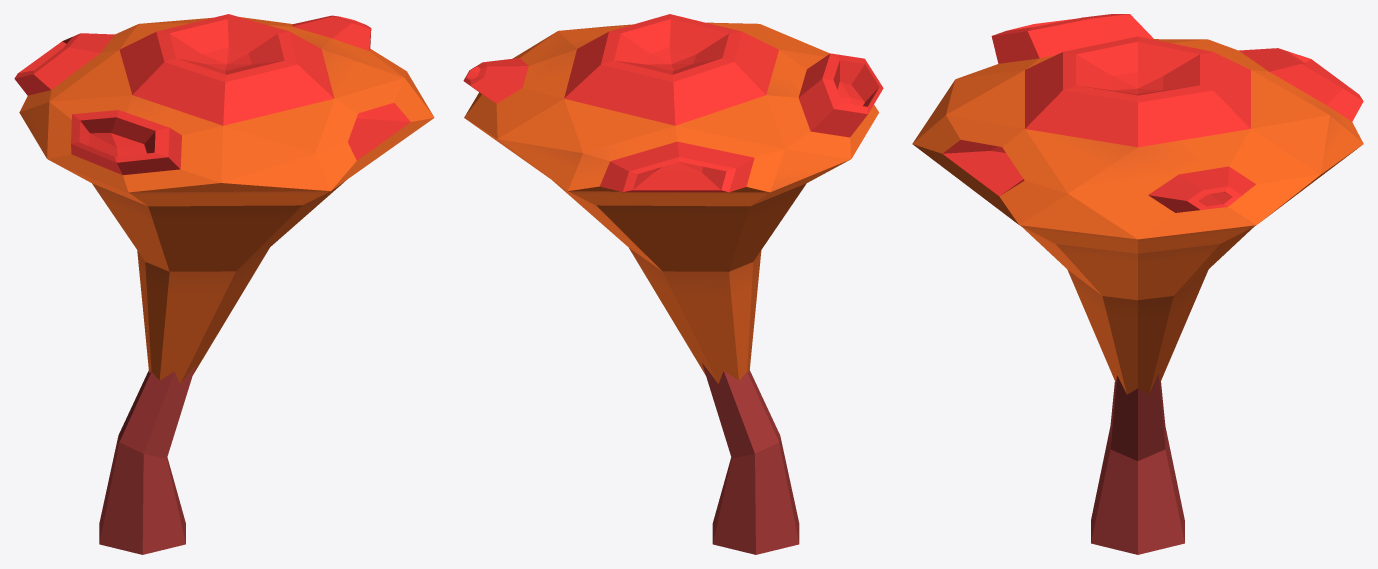
The model's file is RAS_Tree01.fbx.
3 renders of one model, left to right at view 1: azimuth 30°, elevation 25°; view 2: azimuth 150°, elevation 25°; view 3: azimuth 270°, elevation 25°, orthographic. The views are drawn at different scales.
Visible parts, largest first — view 1: RAS_Tree01; view 2: RAS_Tree01; view 3: RAS_Tree01.
Boxes of the visible parts, x1,y1,x2,y2 form: RAS_Tree01: [14, 14, 434, 554]; RAS_Tree01: [463, 14, 883, 554]; RAS_Tree01: [912, 14, 1363, 554].
Size of the model in its own units: 277 by 344 by 277.
Materials: 1 (1 with a texture image).
